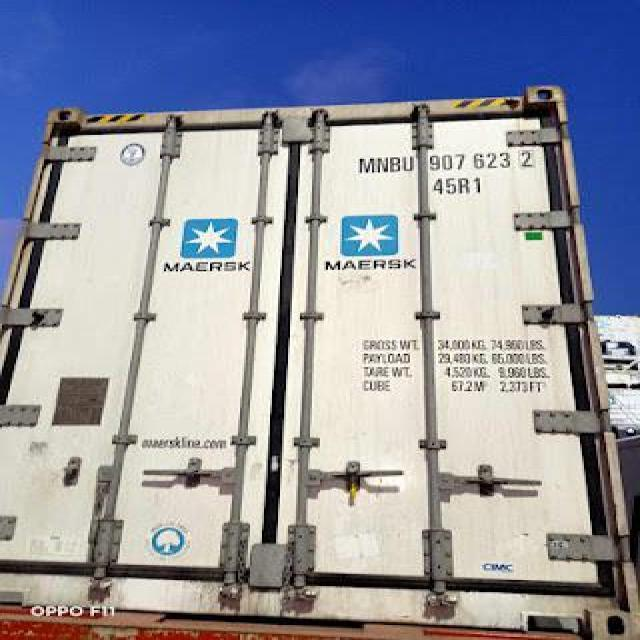ISO: (436, 174, 484, 197)
container_number: (363, 150, 529, 174)
